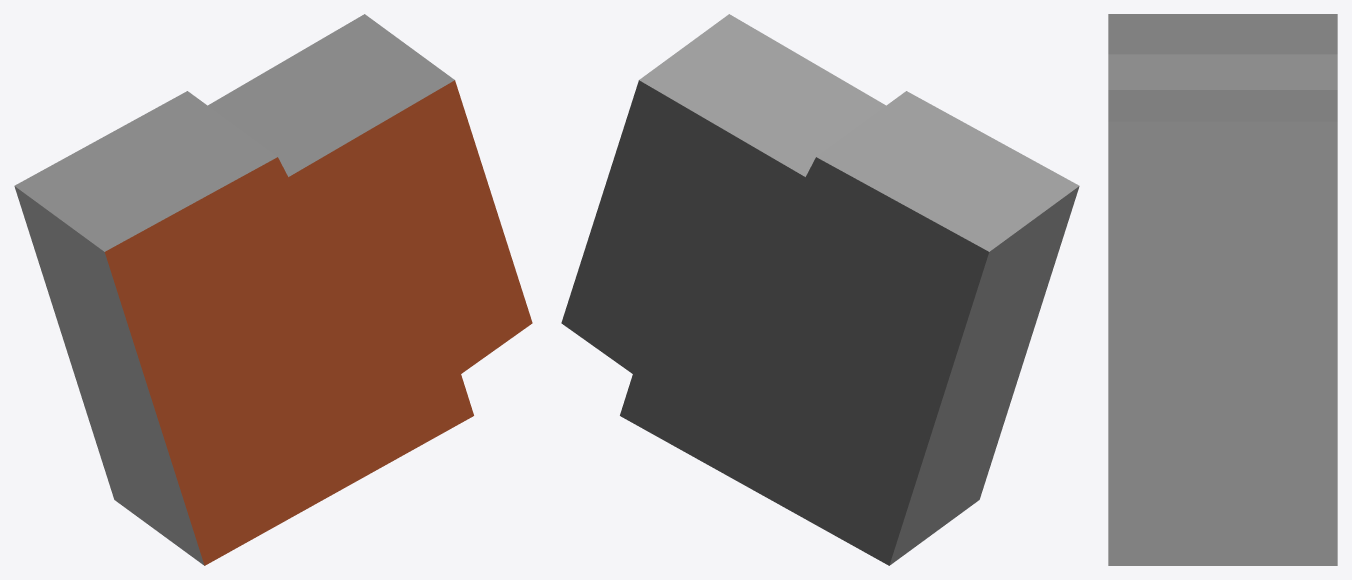
File: construction_3834_assumed_A_Casa_h6m.obj
3 views of the same model, side by side, from view 1: azimuth 30°, elevation 25°; view 2: azimuth 150°, elevation 25°; view 3: azimuth 270°, elevation 25° (orthographic). The views are drawn at different scales.
Parts seen in each view (by area): view 1: construction_3834_assumed_A_Casa; view 2: construction_3834_assumed_A_Casa; view 3: construction_3834_assumed_A_Casa.
Boxes of the visible parts, x1,y1,x2,y2 form: construction_3834_assumed_A_Casa: [14, 14, 532, 565]; construction_3834_assumed_A_Casa: [561, 14, 1079, 565]; construction_3834_assumed_A_Casa: [1108, 14, 1337, 565].
Size of the model in its own units: 16.41 by 15.56 by 6.
